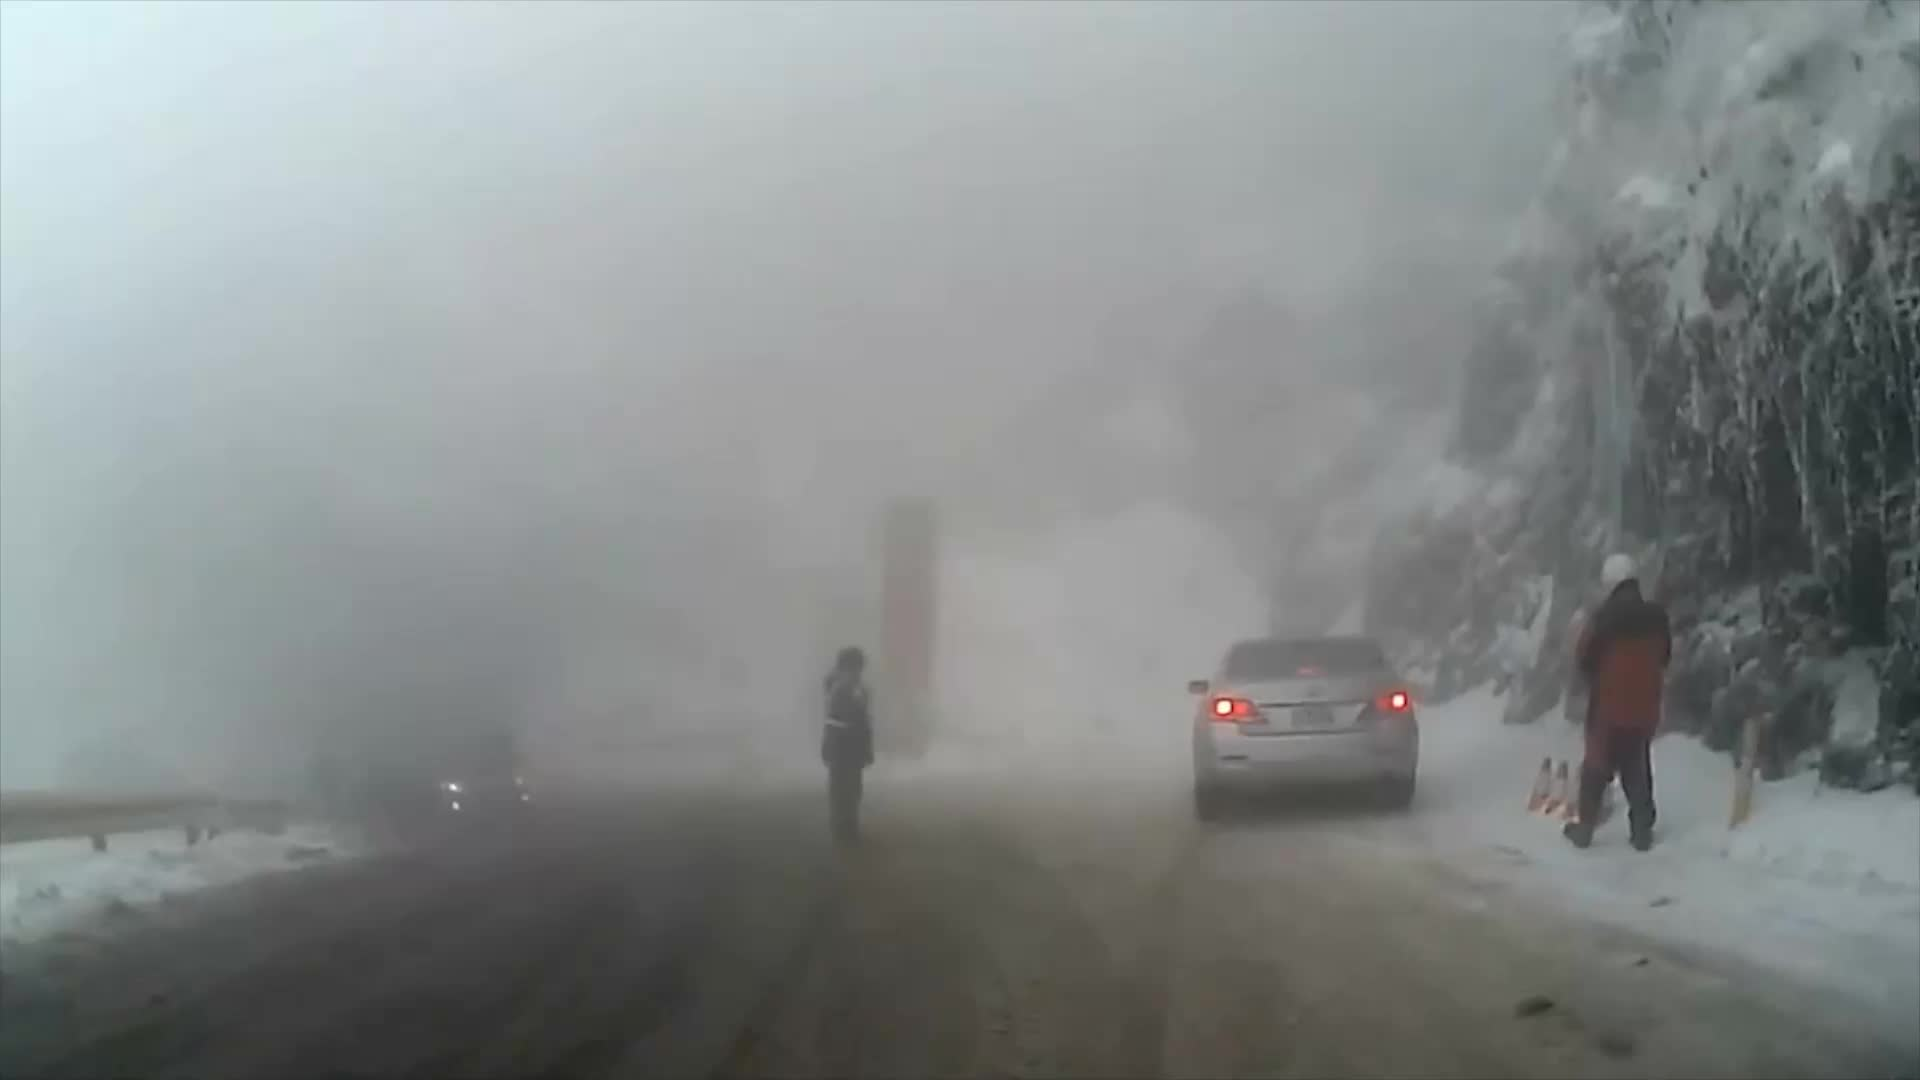pedestrian: (1563, 550, 1676, 851), (820, 647, 884, 850)
vehicle: (1186, 632, 1419, 825)
